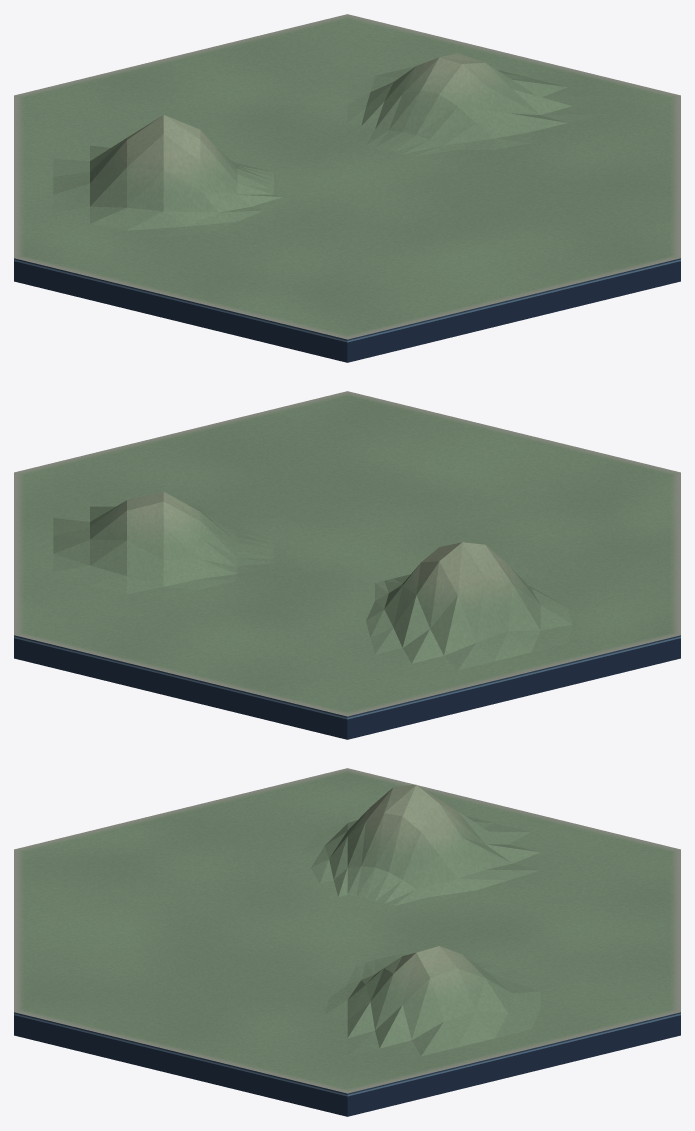
File: campus_tile_hill_v01.glb
The picture shows the model from 3 angles, top to bottom: view 1: azimuth 30°, elevation 25°; view 2: azimuth 150°, elevation 25°; view 3: azimuth 270°, elevation 25°; orthographic projection.
Parts seen in each view (by area): view 1: campus_tile_hill; view 2: campus_tile_hill; view 3: campus_tile_hill.
Boxes of the visible parts, box(x1,y1,x2,y2) form: campus_tile_hill: box(14, 14, 680, 362); campus_tile_hill: box(14, 391, 680, 739); campus_tile_hill: box(14, 768, 680, 1116).
Size of the model in its own units: 36 by 4.98 by 31.18.
1 material, 1 textured.
